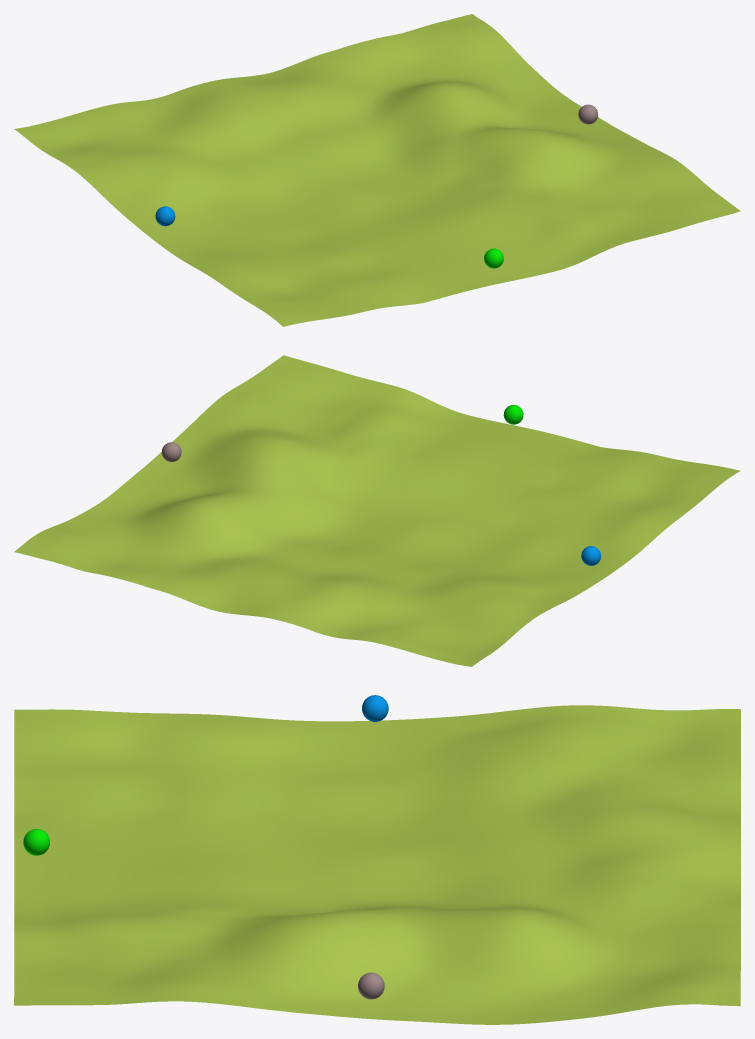
File: marqueurs_chemin_courve2.fbx
3 renders of one model, top to bottom at view 1: azimuth 30°, elevation 25°; view 2: azimuth 150°, elevation 25°; view 3: azimuth 270°, elevation 25°, orthographic. The views are drawn at different scales.
Visible parts, largest first — view 1: chemin_courve2; view 2: chemin_courve2; view 3: chemin_courve2, pSphere46, pSphere47, pSphere45.
Part boxes in pixels (x1,y1,x2,y2): chemin_courve2: (14,14,740,326); chemin_courve2: (14,355,740,666); chemin_courve2: (14,705,740,1024); pSphere46: (23,829,49,855); pSphere47: (358,972,384,999); pSphere45: (362,695,388,721).
Size of the model in its own units: 708 by 52.49 by 721.
